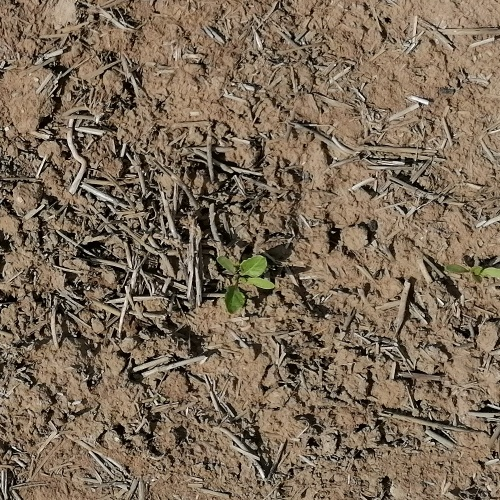beet: (216, 253, 272, 313), (445, 263, 500, 281)
